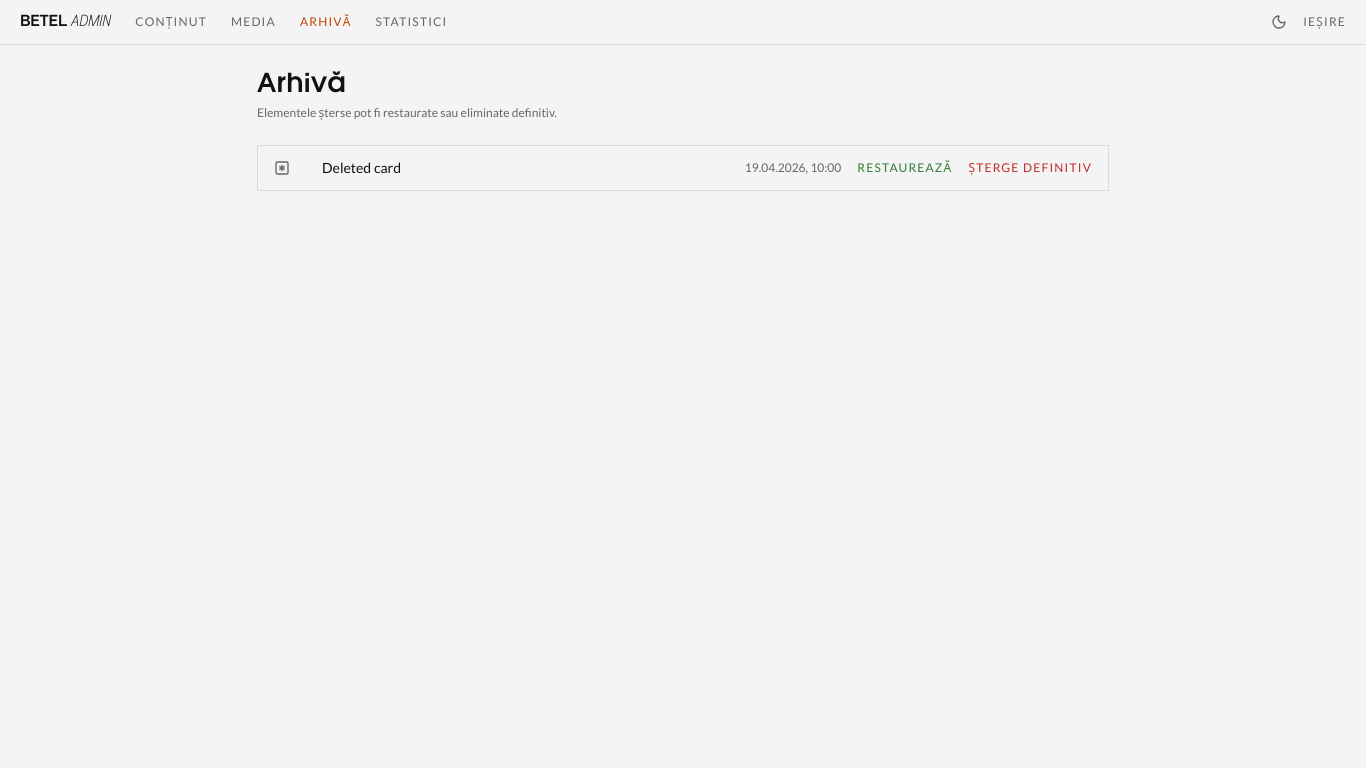
Test: Admin — archive page › permanently deletes an item
Expected: the list item with test id "archive-row-item-1" is shown, [257,145,1109,191]
Click the button with test id "permanent-delete-btn-item-1" at (1030, 168), box [968,160,1092,176]
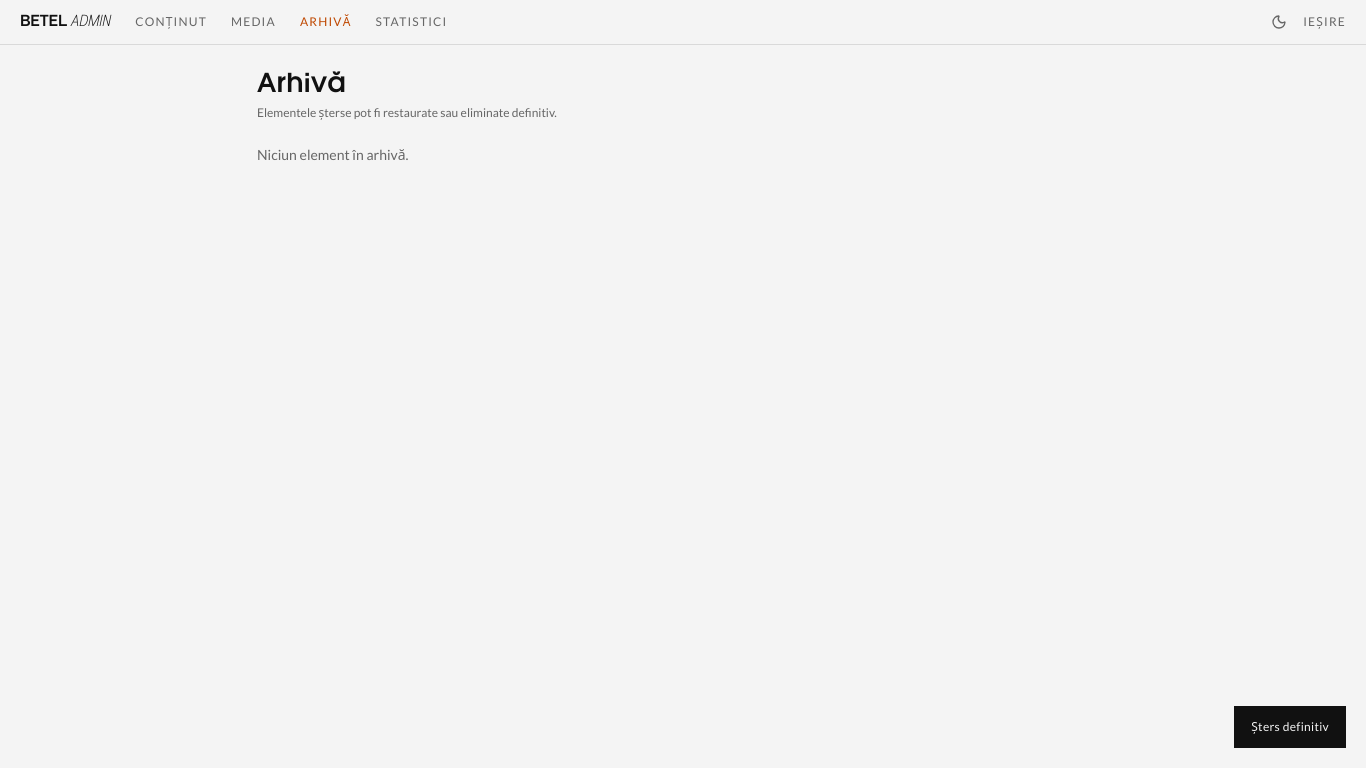
Expected: the text "Niciun element în arhivă." is shown, [257,146,408,163]
